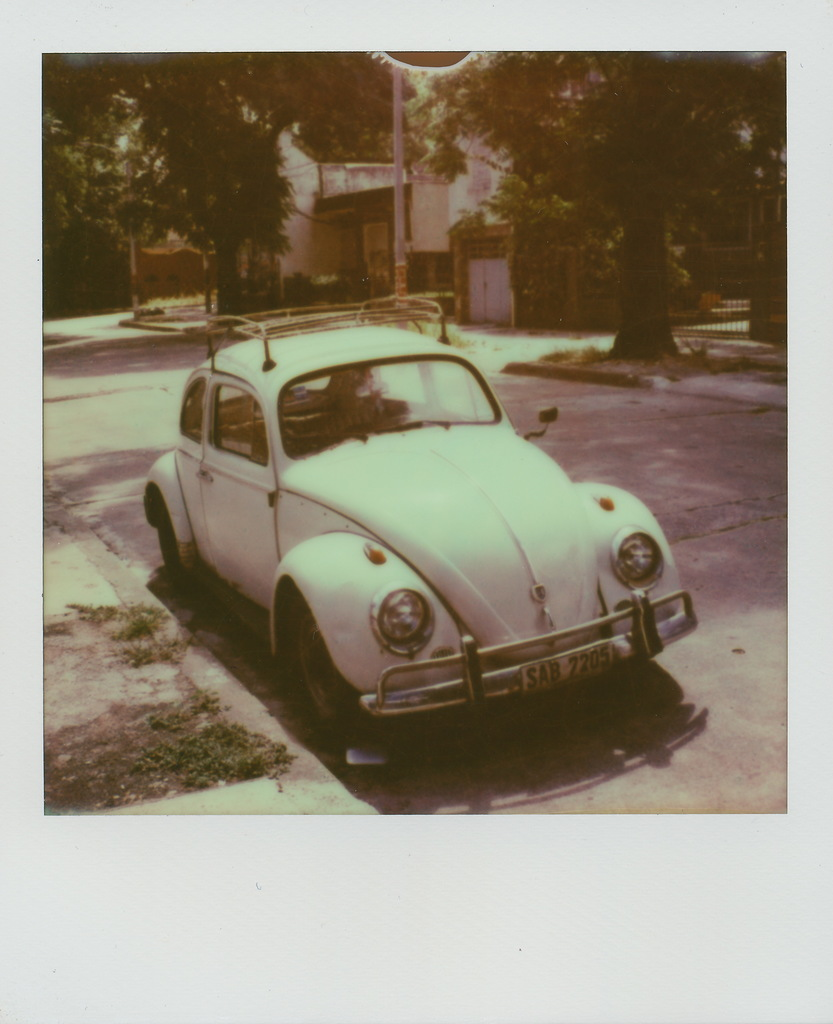mobil: (156, 305, 707, 744)
